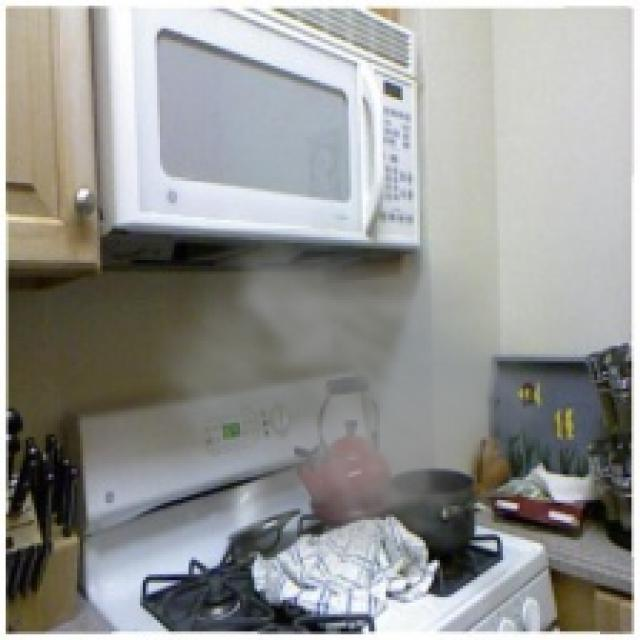smoke: (140, 229, 557, 597)
